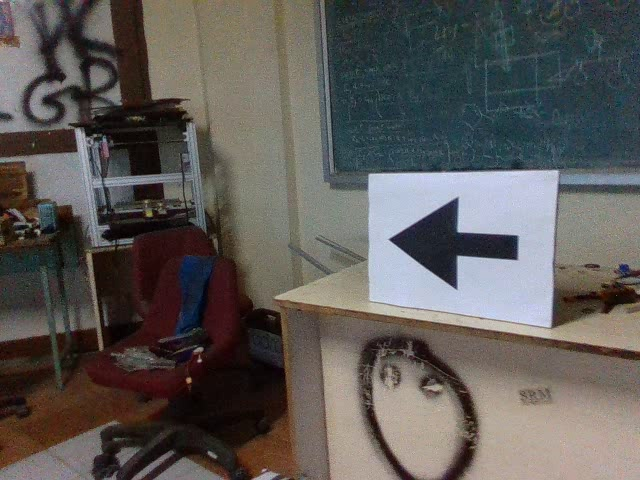Left: (384, 192, 526, 293)
